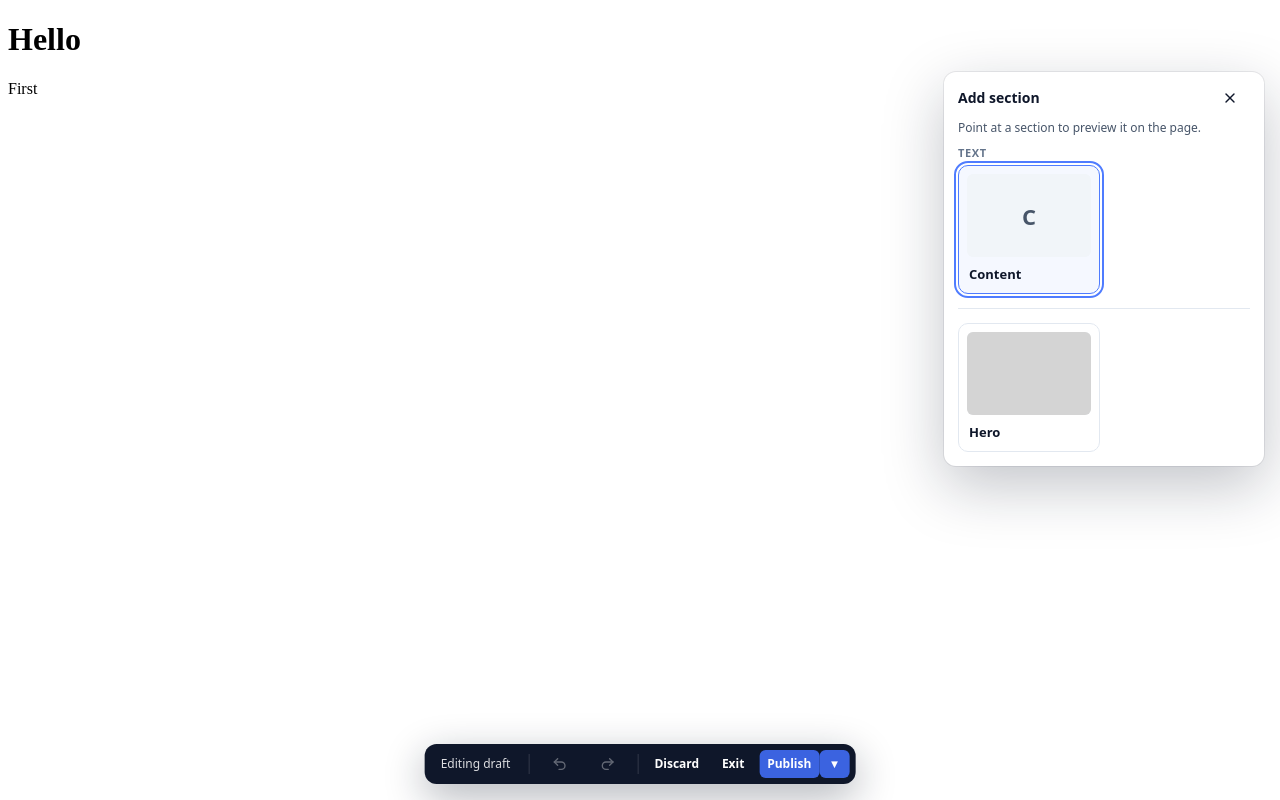
Test: BlockPicker › client mode: Escape removes the preview
Expected: the message with test id "onpage-status" reads "Editing draft", [441,755,510,772]
Expected: the dialog with test id "onpage-block-picker" is shown, [944,72,1264,466]
Hover over the button with test id "onpage-block-hero".
mouse_move(1029, 387)  # box [958,323,1100,452]
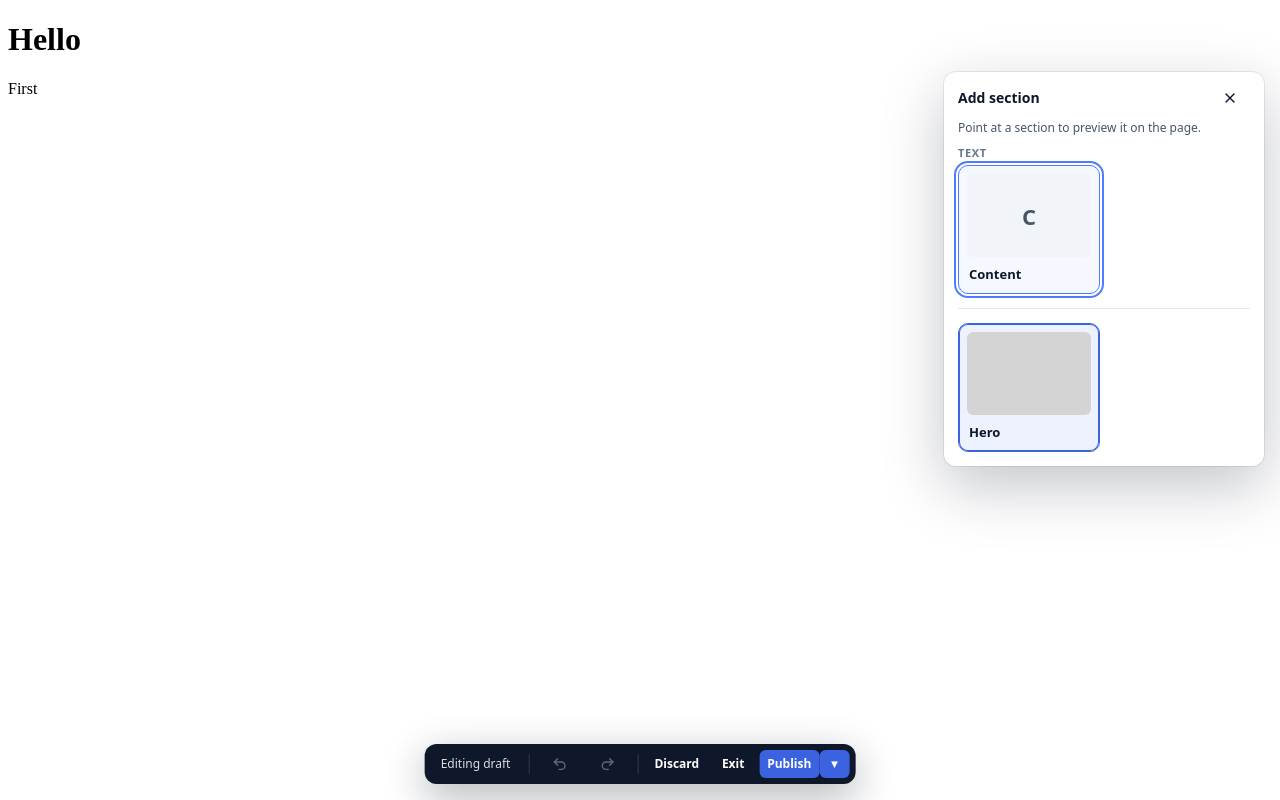
Press Escape in the button "C Content", box [958,165,1100,294]
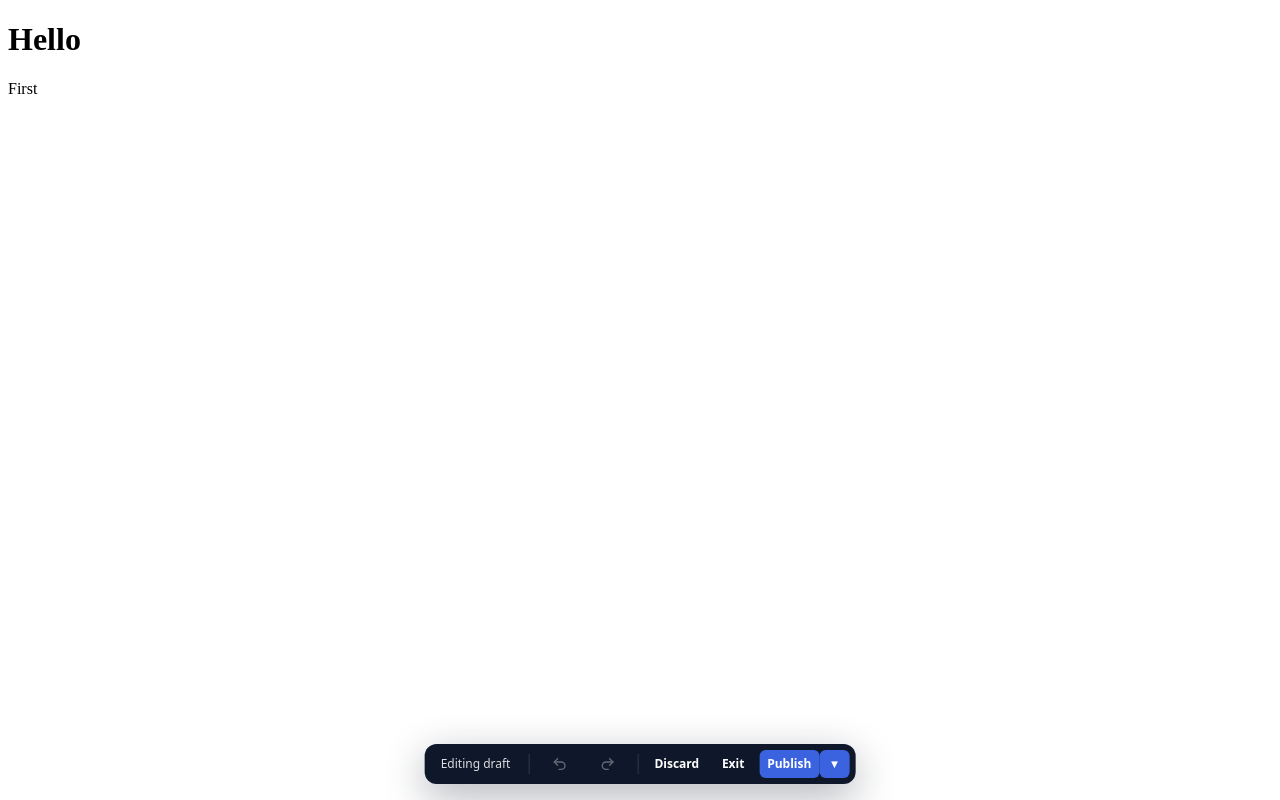
Result: the dialog with test id "onpage-block-picker" is gone
